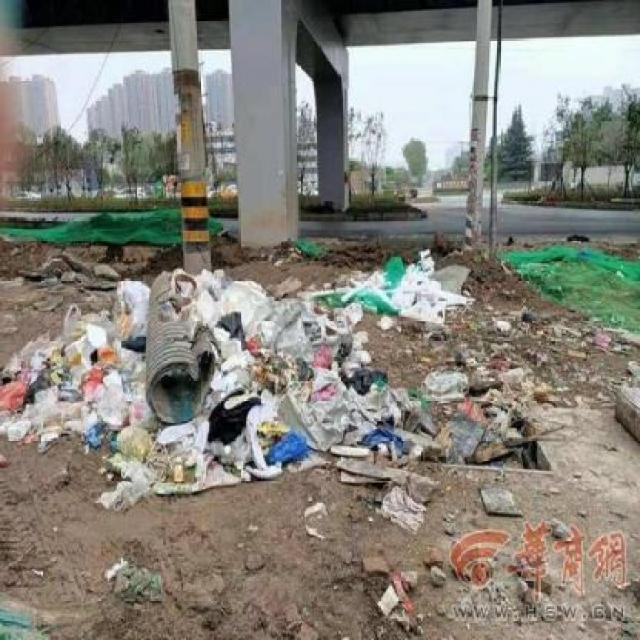garbage: (14, 259, 430, 468), (366, 248, 460, 328)
